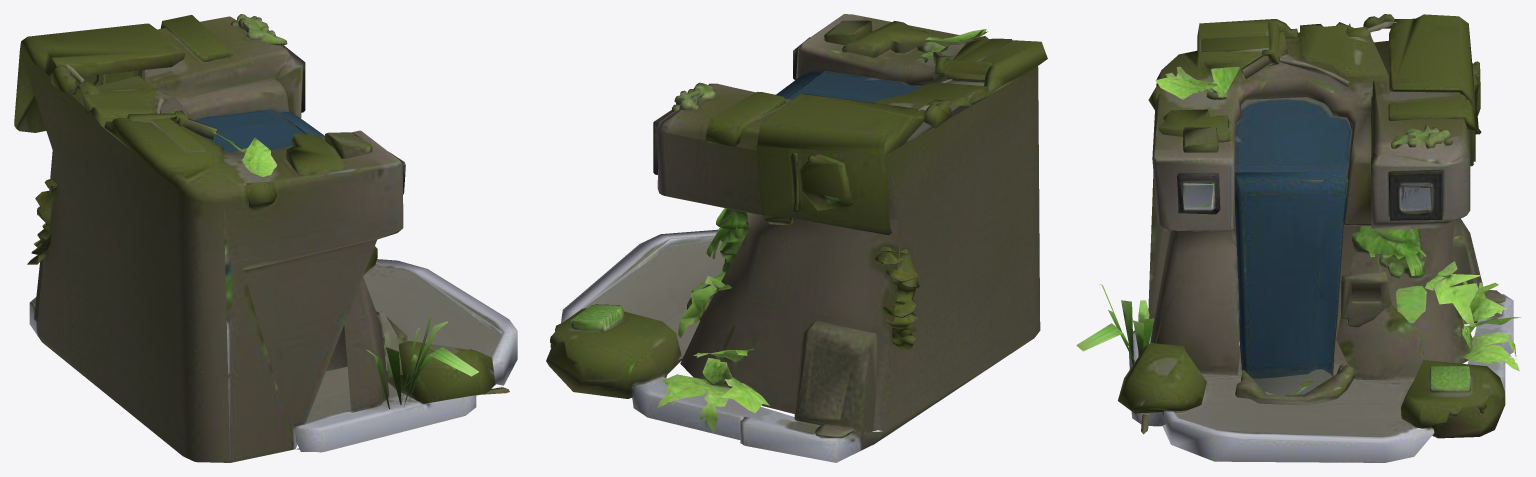
File: cascade.glb
3 renders of one model, left to right at view 1: azimuth 30°, elevation 25°; view 2: azimuth 150°, elevation 25°; view 3: azimuth 270°, elevation 25°, orthographic. The views are drawn at different scales.
Visible parts, largest first — view 1: Body; view 2: Body; view 3: Body.
Part boxes in pixels (x1,y1,x2,y2): Body: (14, 14, 517, 462); Body: (546, 14, 1047, 462); Body: (1076, 14, 1520, 462).
Bounding box in the file's own units: 8.61 × 6.87 × 9.64.
Materials: 1 (1 with a texture image).
